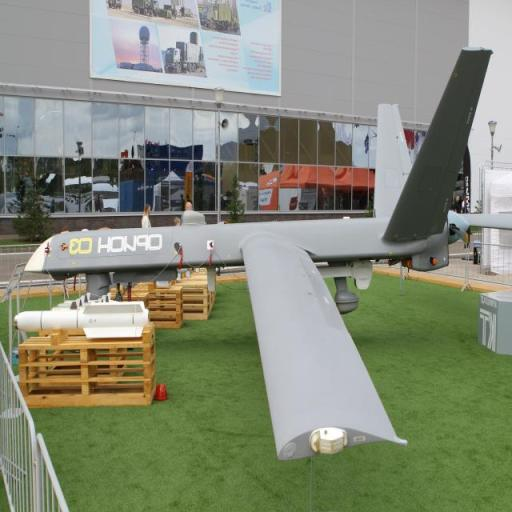uav: (20, 40, 490, 456)
